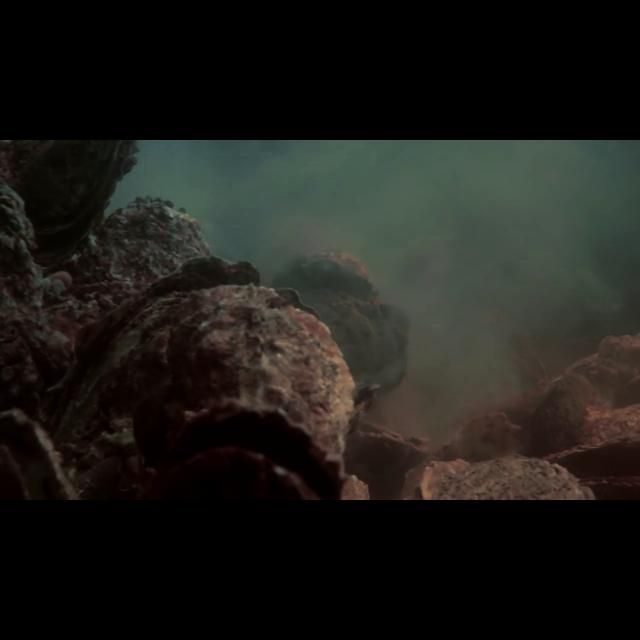Oyster-Closed: (43, 252, 264, 440), (161, 281, 358, 456), (45, 194, 211, 342), (0, 140, 139, 265), (414, 454, 600, 500), (528, 373, 596, 450), (546, 433, 639, 460), (581, 474, 638, 494)
Oyster-Open: (149, 402, 355, 498)
